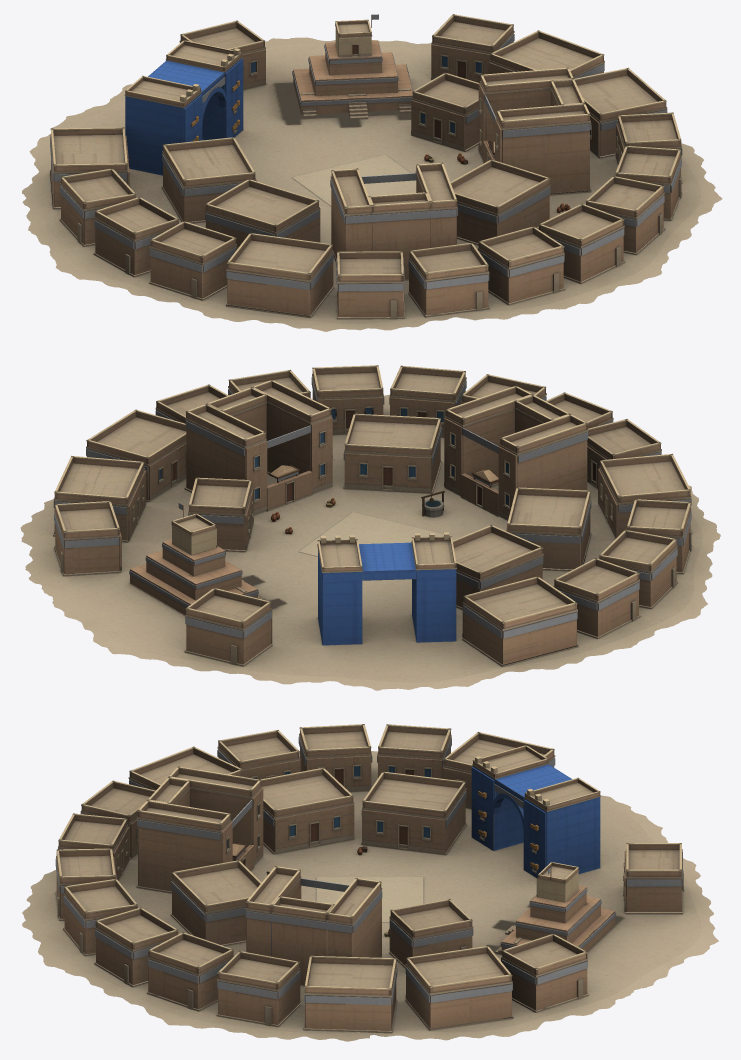
File: bronze-town-big-b-levant.glb
3 renders of one model, top to bottom at view 1: azimuth 30°, elevation 25°; view 2: azimuth 150°, elevation 25°; view 3: azimuth 270°, elevation 25°, orthographic.
Visible parts, largest first — view 1: LOD0; view 2: LOD0; view 3: LOD0.
Part boxes in pixels (x1,y1,x2,y2): LOD0: [22, 14, 722, 331]; LOD0: [20, 365, 720, 690]; LOD0: [22, 724, 718, 1041].
Size of what is drawn, in the model's own units: 7.95 by 1.03 by 8.01.
3 materials, 3 textured.
